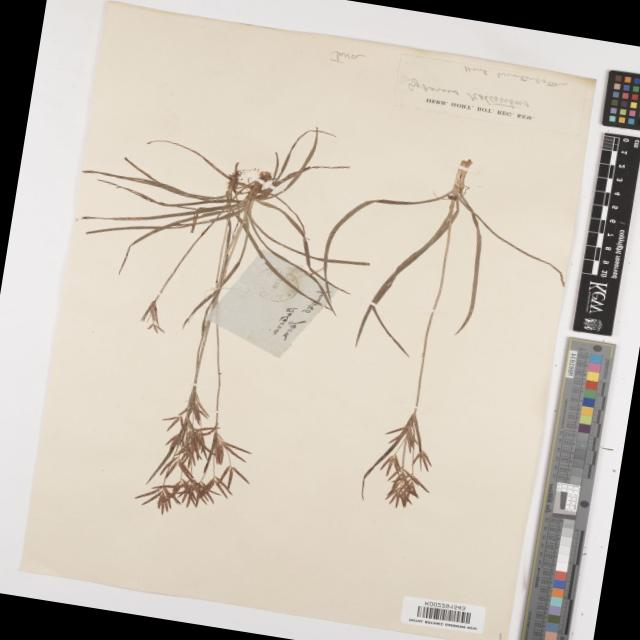cyperus: (119, 388, 261, 532), (343, 408, 463, 522)
